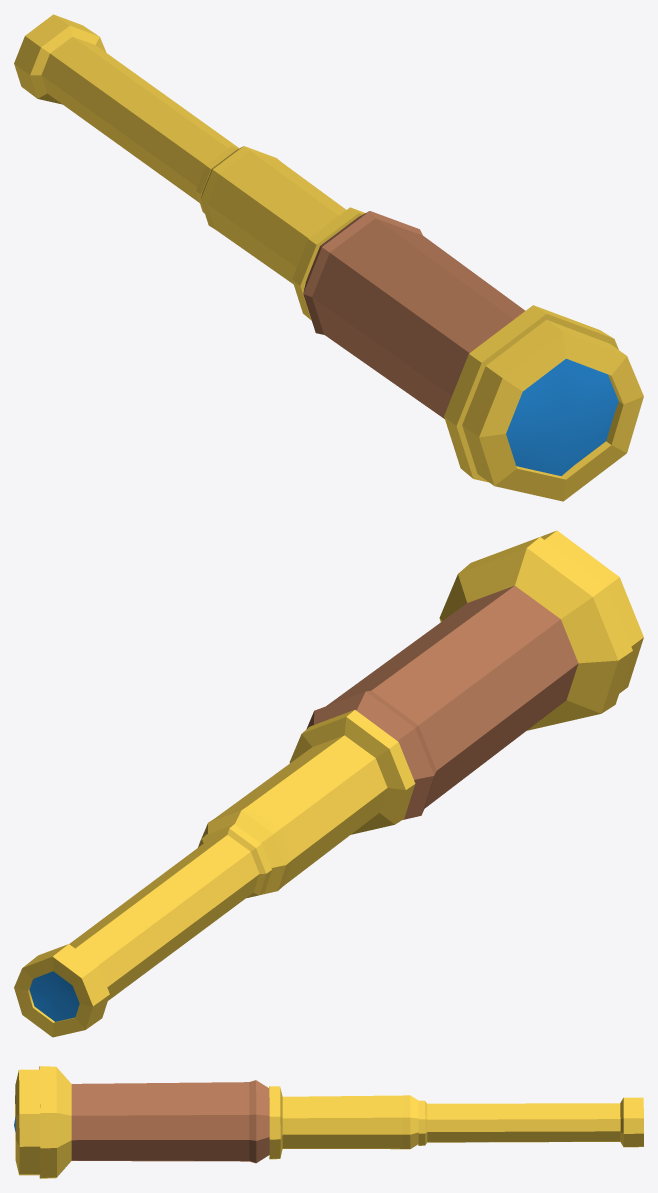
The model's file is lowpoly_catalejo.fbx.
The picture shows the model from 3 angles, top to bottom: view 1: azimuth 30°, elevation 25°; view 2: azimuth 150°, elevation 25°; view 3: azimuth 270°, elevation 25°; orthographic projection. The views are drawn at different scales.
Visible parts, largest first — view 1: Catalejo, Plane001; view 2: Catalejo, Plane001; view 3: Catalejo.
Boxes of the visible parts, x1,y1,x2,y2 form: Catalejo: (14,14,643,501); Plane001: (506,358,618,476); Catalejo: (14,530,643,1037); Plane001: (29,971,79,1021); Catalejo: (15,1066,643,1178).
Bounding box in the file's own units: 23.81 × 23.34 × 118.
Materials: 2 (1 with a texture image).
